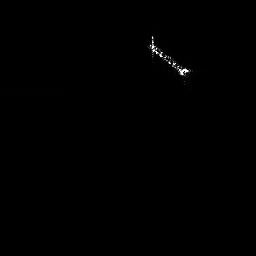ship: (148, 34, 193, 84)
